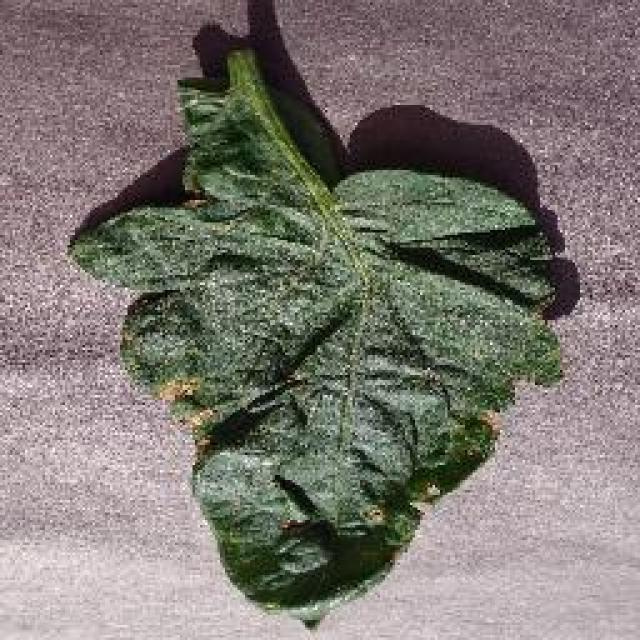Tomato___Target_Spot: (70, 48, 558, 628)
